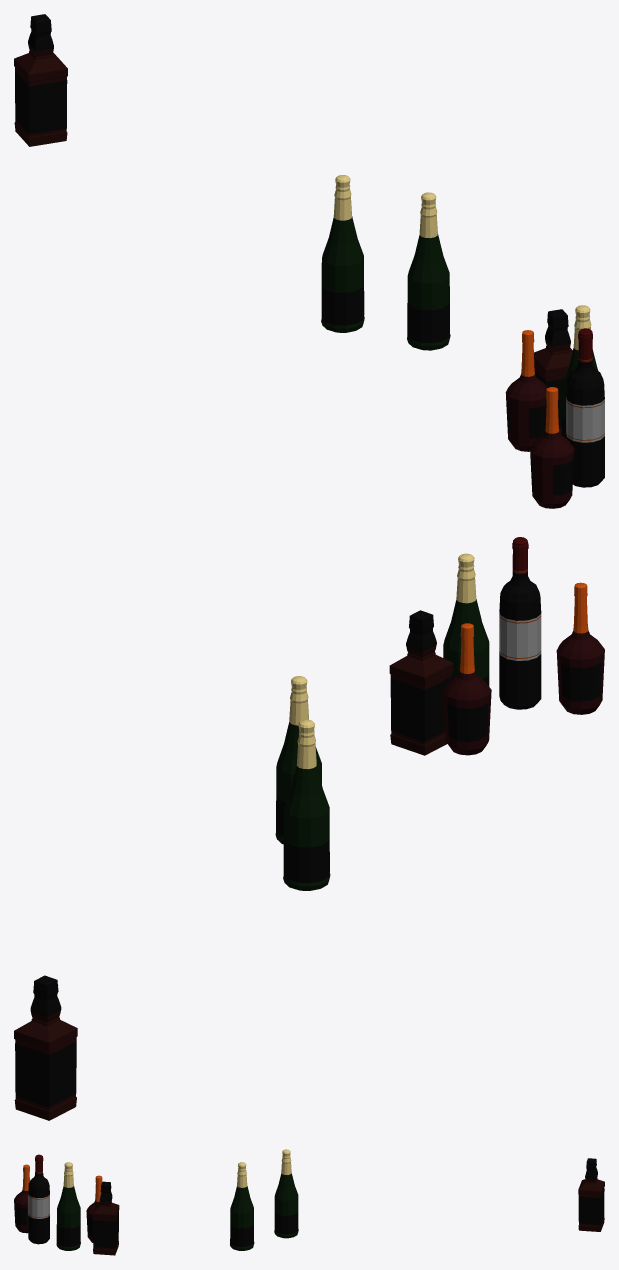
File: botellas2.obj
The picture shows the model from 3 angles, top to bottom: view 1: azimuth 30°, elevation 25°; view 2: azimuth 150°, elevation 25°; view 3: azimuth 270°, elevation 25°; orthographic projection. The views are drawn at different scales.
Parts seen in each view (by area): view 1: pasted__polySurface56; view 2: pasted__polySurface56; view 3: pasted__polySurface56.
Part boxes in pixels (bbox=[...]): pasted__polySurface56: bbox=[14, 14, 604, 508]; pasted__polySurface56: bbox=[14, 537, 604, 1120]; pasted__polySurface56: bbox=[14, 1149, 604, 1255].
Size of the model in its own units: 2.05 by 2.36 by 14.69.
